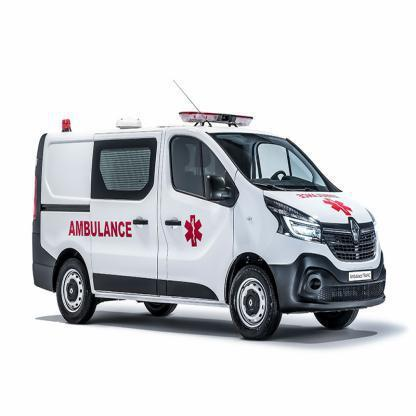ambulance_off: (34, 108, 385, 340)
